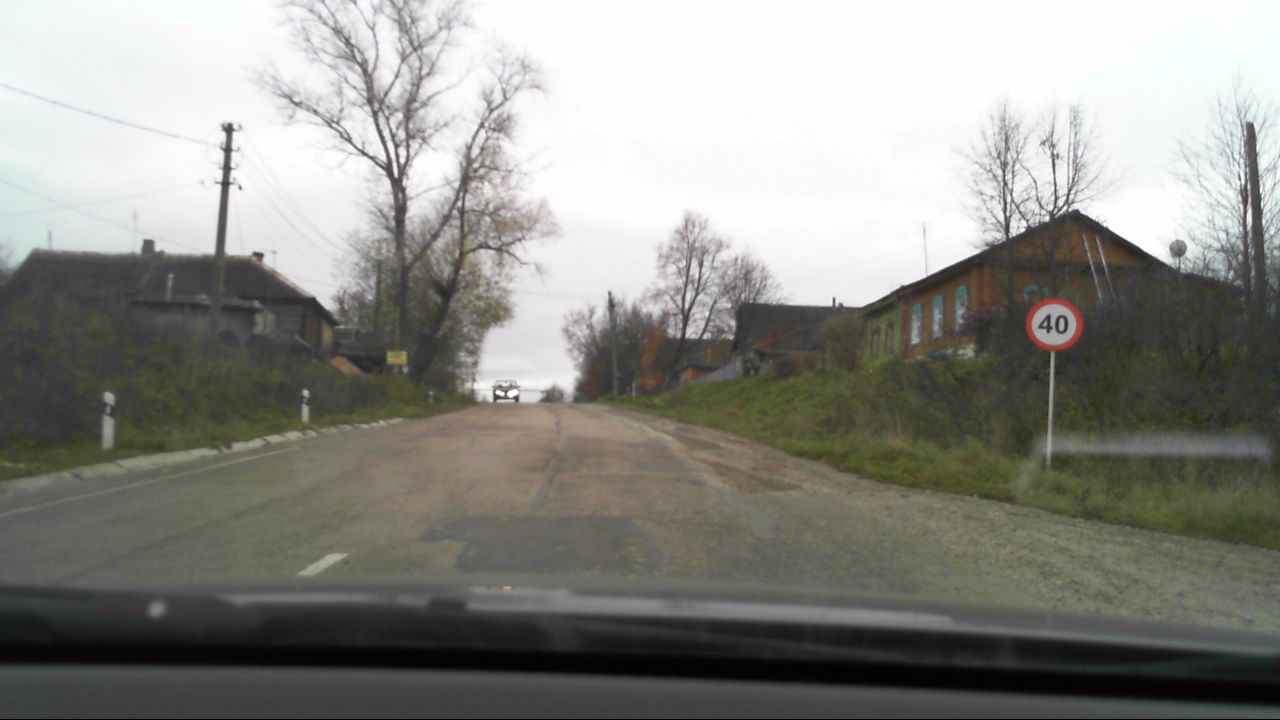speed_warning_40: (1025, 299, 1087, 353)
